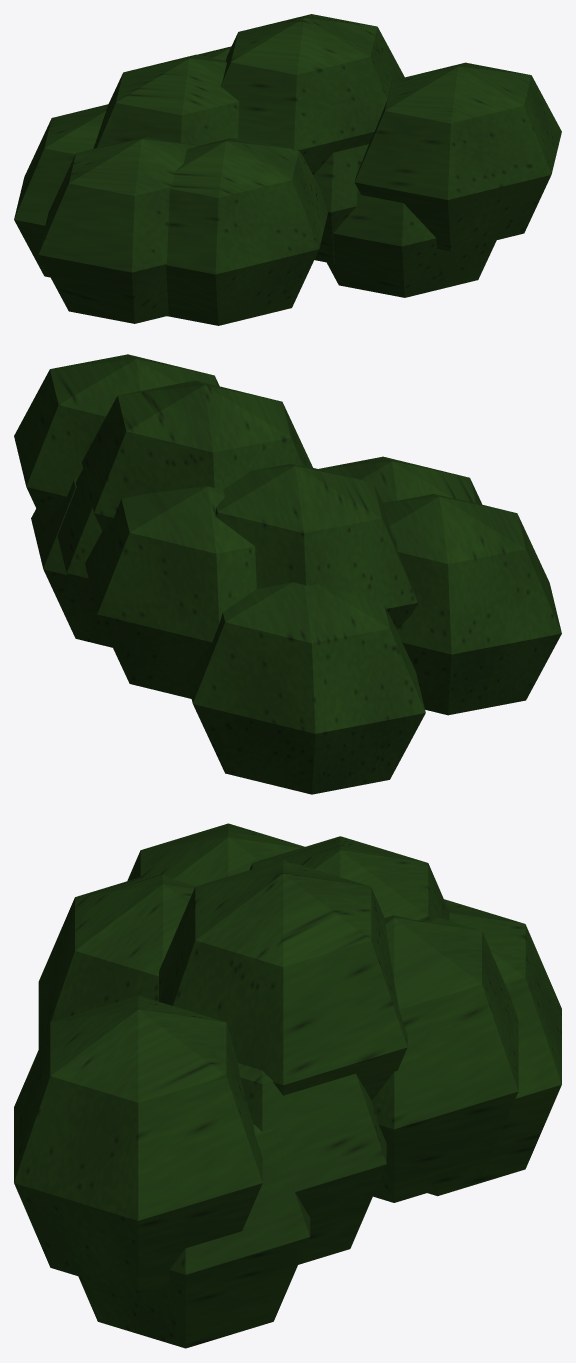
File: PROP-22E75A0AB4D0_lod2.glb
3 renders of one model, top to bottom at view 1: azimuth 30°, elevation 25°; view 2: azimuth 150°, elevation 25°; view 3: azimuth 270°, elevation 25°, orthographic. The views are drawn at different scales.
Visible parts, largest first — view 1: foliage.002; view 2: foliage.002; view 3: foliage.002.
Boxes of the visible parts, x1,y1,x2,y2 form: foliage.002: (14,14,561,325); foliage.002: (14,354,561,794); foliage.002: (14,823,561,1348).
Size of the model in its own units: 1.43 by 0.7509 by 0.9156.
1 material, 1 textured.
